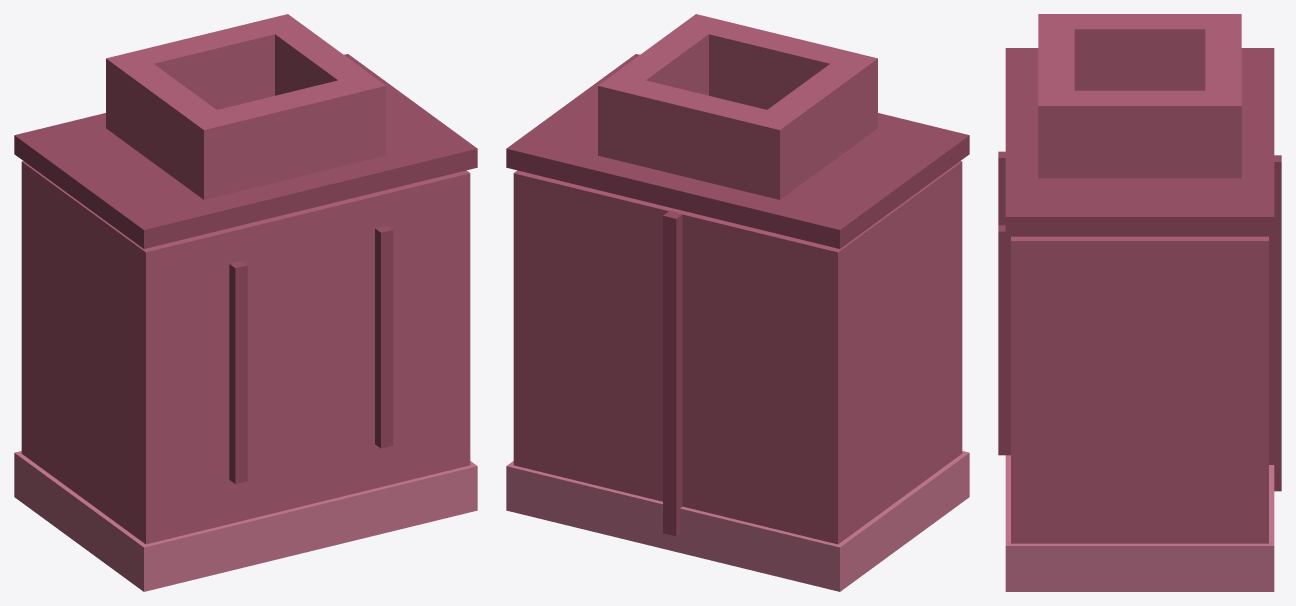
File: jaqueta_tronco.glb
3 views of the same model, side by side, from view 1: azimuth 30°, elevation 25°; view 2: azimuth 150°, elevation 25°; view 3: azimuth 270°, elevation 25° (orthographic). The views are drawn at different scales.
Parts seen in each view (by area): view 1: jaqueta_tronco; view 2: jaqueta_tronco; view 3: jaqueta_tronco.
Boxes of the visible parts, x1,y1,x2,y2 form: jaqueta_tronco: [14, 14, 477, 591]; jaqueta_tronco: [506, 14, 969, 591]; jaqueta_tronco: [998, 14, 1281, 591].
Bounding box in the file's own units: 0.55 × 0.68 × 0.39.
